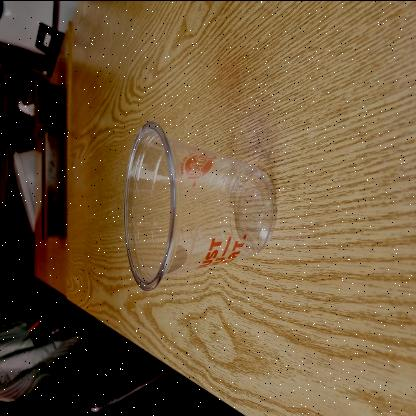Others: (120, 118, 278, 294)
